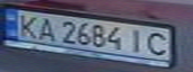2: (54, 18, 78, 45)
4: (106, 24, 127, 51)
6: (75, 20, 93, 47)
8: (90, 21, 109, 48)
A: (33, 16, 60, 42)
C: (142, 29, 175, 56)
I: (124, 26, 148, 53)
K: (12, 11, 42, 39)
